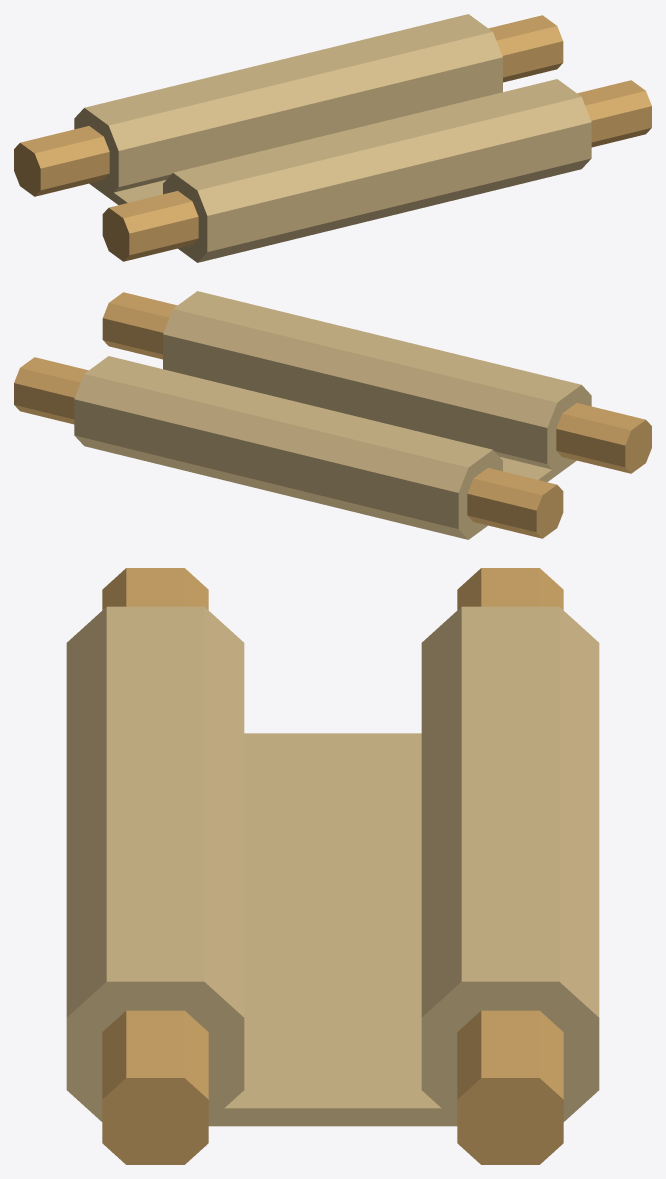
The model's file is Scroll.fbx.
3 renders of one model, top to bottom at view 1: azimuth 30°, elevation 25°; view 2: azimuth 150°, elevation 25°; view 3: azimuth 270°, elevation 25°, orthographic. The views are drawn at different scales.
Parts seen in each view (by area): view 1: Scroll; view 2: Scroll; view 3: Scroll.
Boxes of the visible parts, x1,y1,x2,y2 form: Scroll: (14, 14, 651, 262); Scroll: (14, 291, 651, 539); Scroll: (66, 568, 599, 1164).
Size of the model in its own units: 0.7556 by 0.1 by 0.3333.
